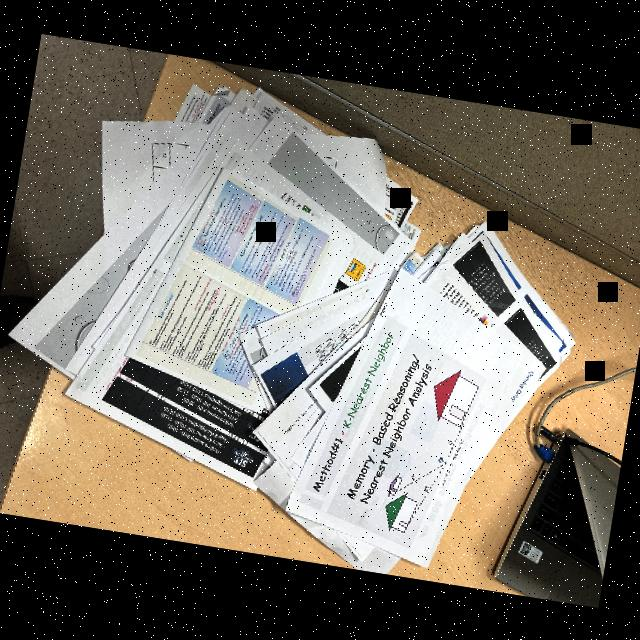reuseable_paper: (0, 63, 605, 596)
